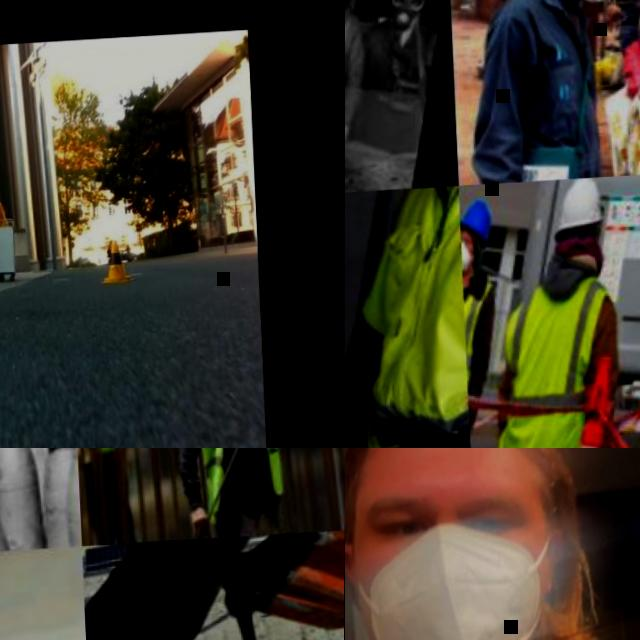Hardhat: (551, 174, 605, 239), (462, 200, 494, 245)
Mask: (360, 521, 548, 640), (391, 1, 418, 28), (463, 243, 475, 274)
NO-Hardhat: (356, 448, 545, 480)
NO-Safety Vest: (490, 0, 602, 179), (361, 18, 442, 150), (345, 6, 359, 116)
Person: (345, 448, 640, 640), (477, 175, 627, 448), (345, 183, 472, 448), (454, 0, 629, 182), (351, 0, 443, 159), (173, 448, 309, 539), (458, 198, 507, 430), (72, 448, 142, 545)
Safety Cone: (558, 418, 608, 448), (101, 242, 135, 284)
Safety Vest: (351, 185, 475, 448), (486, 275, 625, 448), (193, 448, 287, 508)
